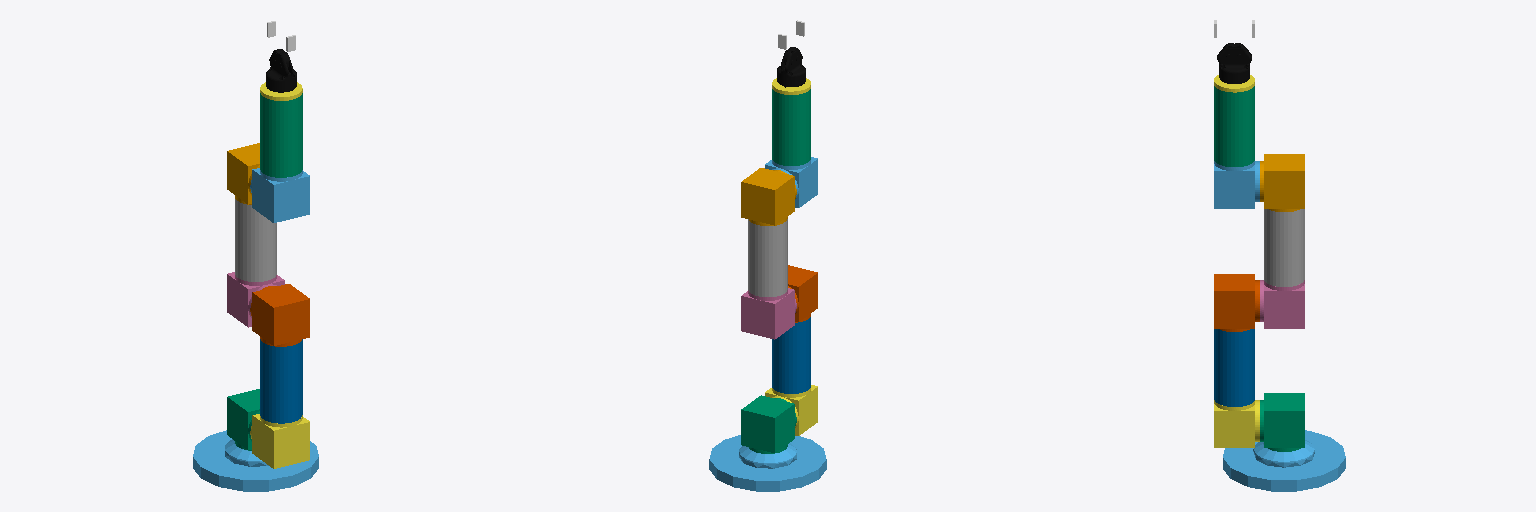
--- Facts derived from the render (not from the file) ---
Views: 3 orthographic renders of the robot side by side, from view 1: azimuth 30°, elevation 25°; view 2: azimuth 150°, elevation 25°; view 3: azimuth 270°, elevation 25°.
Model multi_geo_robot with 24 links and 23 joints (11 revolute, 12 fixed), rooted at world, posed every joint at zero.
Visible links, largest first — view 1: base_model, arm_3, arm_1, adapter_2_1, arm_2, adapter_1_2, adapter_3_2, adapter_1_1, adapter_3_1, adapter_2_2, robotiq_arg2f_base_link; view 2: base_model, arm_2, arm_3, adapter_1_1, adapter_3_1, arm_1, adapter_2_2, adapter_2_1, adapter_3_2, adapter_1_2, robotiq_arg2f_base_link; view 3: base_model, arm_3, arm_1, arm_2, adapter_2_1, adapter_1_1, adapter_3_1, adapter_3_2, adapter_1_2, adapter_2_2, robotiq_arg2f_base_link.
Boxes of the visible links, x1=… form: base_model: x1=193, y1=430, x2=318, y2=491; arm_3: x1=260, y1=93, x2=302, y2=177; arm_1: x1=260, y1=339, x2=302, y2=423; adapter_2_1: x1=250, y1=284, x2=309, y2=346; arm_2: x1=235, y1=199, x2=276, y2=281; adapter_1_2: x1=250, y1=414, x2=309, y2=468; adapter_3_2: x1=250, y1=168, x2=309, y2=222; adapter_1_1: x1=227, y1=389, x2=259, y2=450; adapter_3_1: x1=227, y1=143, x2=259, y2=204; adapter_2_2: x1=227, y1=272, x2=284, y2=327; robotiq_arg2f_base_link: x1=266, y1=49, x2=296, y2=92; base_model: x1=709, y1=435, x2=826, y2=491; arm_2: x1=748, y1=219, x2=787, y2=296; arm_3: x1=772, y1=89, x2=810, y2=165; adapter_1_1: x1=741, y1=395, x2=796, y2=453; adapter_3_1: x1=741, y1=168, x2=796, y2=225; arm_1: x1=772, y1=317, x2=810, y2=393; adapter_2_2: x1=741, y1=288, x2=796, y2=339; adapter_2_1: x1=788, y1=265, x2=817, y2=322; adapter_3_2: x1=765, y1=157, x2=817, y2=207; adapter_1_2: x1=765, y1=385, x2=817, y2=435; robotiq_arg2f_base_link: x1=777, y1=47, x2=805, y2=87; base_model: x1=1223, y1=430, x2=1345, y2=491; arm_3: x1=1214, y1=86, x2=1254, y2=166; arm_1: x1=1214, y1=329, x2=1254, y2=406; arm_2: x1=1264, y1=209, x2=1304, y2=286; adapter_2_1: x1=1214, y1=274, x2=1259, y2=331; adapter_1_1: x1=1260, y1=393, x2=1304, y2=451; adapter_3_1: x1=1260, y1=154, x2=1304, y2=211; adapter_3_2: x1=1214, y1=161, x2=1259, y2=208; adapter_1_2: x1=1214, y1=400, x2=1259, y2=447; adapter_2_2: x1=1260, y1=280, x2=1304, y2=328; robotiq_arg2f_base_link: x1=1217, y1=43, x2=1251, y2=83.
Size in the robot's own frame: 0.2967 by 0.3192 by 1.18 metres.
8 mesh visuals loaded from 7 distinct referenced files (1 binary STL, 2 Collada DAE); not drawn: 8 (reference not matched to a file when rendering).

URDF robot description (multi_geo_robot):
<?xml version="1.0" ?>
<!-- =================================================================================== -->
<!-- |    This document was autogenerated by xacro from [local-path]/Documents/dev/Multi_Geo/ros_ws/src/multi_geo_robot/multi_geo_robot_desc/models/robot_environment.xacro | -->
<!-- |    EDITING THIS FILE BY HAND IS NOT RECOMMENDED                                 | -->
<!-- =================================================================================== -->
<robot name="multi_geo_robot">
  <gazebo>
    <plugin filename="libgazebo_ros_control.so" name="gazebo_ros_control">
    </plugin>
  </gazebo>
  <link name="world"/>
  <joint name="world_joint" type="fixed">
    <origin rpy="0 0 0" xyz="0 0 0"/>
    <parent link="world"/>
    <child link="base_model"/>
  </joint>
  <!-- Base Model -->
  <link name="base_model">
    <inertial>
      <origin rpy="0 0 0" xyz="2e-06 0 0.019926"/>
      <mass value="1000"/>
      <inertia ixx="4.811547714514836" ixy="0" ixz="0" iyy="4.811547714514836" iyz="0" izz="9.623095429029672"/>
    </inertial>
    <collision>
      <geometry>
        <mesh filename="package://multi_geo_robot_desc/models/BaseModel2.dae"/>
      </geometry>
    </collision>
    <visual>
      <geometry>
        <mesh filename="package://multi_geo_robot_desc/models/BaseModel2.dae"/>
      </geometry>
    </visual>
  </link>
  <gazebo reference="base_model">
    <material>Gazebo/DarkGrey</material>
    <!-- <selfCollide>true</selfCollide> -->
  </gazebo>
  <!-- Arm Construct -->
  <!-- 2 Adapter -->
  <link name="adapter_1_1">
    <inertial>
      <origin rpy="0 0 0" xyz="0 -0.003725 0.003727"/>
      <mass value="5"/>
      <inertia ixx="0.008643042350907518" ixy="0" ixz="0" iyy="0.008643042350907518" iyz="0" izz="0.008643042350907518"/>
    </inertial>
    <collision name="adapter_1_1_collision">
      <geometry>
        <mesh filename="package://multi_geo_robot_desc/models/FirstLink.dae"/>
      </geometry>
    </collision>
    <visual>
      <geometry>
        <mesh filename="package://multi_geo_robot_desc/models/FirstLink.dae"/>
      </geometry>
    </visual>
  </link>
  <gazebo reference="adapter_1_1">
    <material>Gazebo/FlatBlack</material>
    <!-- <selfCollide>true</selfCollide> -->
  </gazebo>
  <!-- Contact Sensor -->
  <gazebo reference="adapter_1_1">
    <sensor name="adapter_1_1_contact_sensor" type="contact">
      <always_on>true</always_on>
      <contact>
        <collision>adapter_1_1_collision_collision</collision>
      </contact>
      <plugin filename="libgazebo_ros_bumper.so" name="adapter_1_1_plugin">
        <bumperTopicName>adapter_1_1_contact</bumperTopicName>
        <frameName>adapter_1_1</frameName>
      </plugin>
    </sensor>
  </gazebo>
  <link name="adapter_1_2">
    <inertial>
      <origin rpy="0 0 0" xyz="0 -0.003725 0.003727"/>
      <mass value="5"/>
      <inertia ixx="0.008643042350907518" ixy="0" ixz="0" iyy="0.008643042350907518" iyz="0" izz="0.008643042350907518"/>
    </inertial>
    <collision name="adapter_1_2_collision">
      <geometry>
        <mesh filename="package://multi_geo_robot_desc/models/FirstLink.dae"/>
      </geometry>
    </collision>
    <visual>
      <geometry>
        <mesh filename="package://multi_geo_robot_desc/models/FirstLink.dae"/>
      </geometry>
    </visual>
  </link>
  <gazebo reference="adapter_1_2">
    <material>Gazebo/FlatBlack</material>
    <!-- <selfCollide>true</selfCollide> -->
  </gazebo>
  <!-- Contact Sensor -->
  <gazebo reference="adapter_1_2">
    <sensor name="adapter_1_2_contact_sensor" type="contact">
      <always_on>true</always_on>
      <contact>
        <collision>adapter_1_2_collision_collision</collision>
      </contact>
      <plugin filename="libgazebo_ros_bumper.so" name="adapter_1_2_plugin">
        <bumperTopicName>adapter_1_2_contact</bumperTopicName>
        <frameName>adapter_1_2</frameName>
      </plugin>
    </sensor>
  </gazebo>
  <!-- 1 Arm -->
  <link name="arm_1">
    <inertial>
      <origin rpy="0 0 0" xyz="0 0 0"/>
      <mass value="9"/>
      <inertia ixx="0.035625000000000004" ixy="0" ixz="0" iyy="0.035625000000000004" iyz="0" izz="0.0018750000000000004"/>
    </inertial>
    <collision name="arm_1_collision">
      <geometry>
        <cylinder length="0.2" radius="0.05"/>
      </geometry>
    </collision>
    <visual>
      <geometry>
        <cylinder length="0.2" radius="0.05"/>
      </geometry>
    </visual>
  </link>
  <gazebo reference="arm_1">
    <material>Gazebo/DarkGrey</material>
    <!-- <selfCollide>true</selfCollide> -->
  </gazebo>
  <!-- Contact Sensor -->
  <gazebo reference="arm_1">
    <sensor name="arm_1_contact_sensor" type="contact">
      <always_on>true</always_on>
      <contact>
        <collision>arm_1_collision_collision</collision>
      </contact>
      <plugin filename="libgazebo_ros_bumper.so" name="arm_1_plugin">
        <bumperTopicName>arm_1_contact</bumperTopicName>
        <frameName>arm_1</frameName>
      </plugin>
    </sensor>
  </gazebo>
  <!-- 2 Adapter -->
  <link name="adapter_2_1">
    <inertial>
      <origin rpy="0 0 0" xyz="0 -0.003725 0.003727"/>
      <mass value="5"/>
      <inertia ixx="0.008643042350907518" ixy="0" ixz="0" iyy="0.008643042350907518" iyz="0" izz="0.008643042350907518"/>
    </inertial>
    <collision name="adapter_2_1_collision">
      <geometry>
        <mesh filename="package://multi_geo_robot_desc/models/FirstLink.dae"/>
      </geometry>
    </collision>
    <visual>
      <geometry>
        <mesh filename="package://multi_geo_robot_desc/models/FirstLink.dae"/>
      </geometry>
    </visual>
  </link>
  <gazebo reference="adapter_2_1">
    <material>Gazebo/FlatBlack</material>
    <!-- <selfCollide>true</selfCollide> -->
  </gazebo>
  <!-- Contact Sensor -->
  <gazebo reference="adapter_2_1">
    <sensor name="adapter_2_1_contact_sensor" type="contact">
      <always_on>true</always_on>
      <contact>
        <collision>adapter_2_1_collision_collision</collision>
      </contact>
      <plugin filename="libgazebo_ros_bumper.so" name="adapter_2_1_plugin">
        <bumperTopicName>adapter_2_1_contact</bumperTopicName>
        <frameName>adapter_2_1</frameName>
      </plugin>
    </sensor>
  </gazebo>
  <link name="adapter_2_2">
    <inertial>
      <origin rpy="0 0 0" xyz="0 -0.003725 0.003727"/>
      <mass value="5"/>
      <inertia ixx="0.008643042350907518" ixy="0" ixz="0" iyy="0.008643042350907518" iyz="0" izz="0.008643042350907518"/>
    </inertial>
    <collision name="adapter_2_2_collision">
      <geometry>
        <mesh filename="package://multi_geo_robot_desc/models/FirstLink.dae"/>
      </geometry>
    </collision>
    <visual>
      <geometry>
        <mesh filename="package://multi_geo_robot_desc/models/FirstLink.dae"/>
      </geometry>
    </visual>
  </link>
  <gazebo reference="adapter_2_2">
    <material>Gazebo/FlatBlack</material>
    <!-- <selfCollide>true</selfCollide> -->
  </gazebo>
  <!-- Contact Sensor -->
  <gazebo reference="adapter_2_2">
    <sensor name="adapter_2_2_contact_sensor" type="contact">
      <always_on>true</always_on>
      <contact>
        <collision>adapter_2_2_collision_collision</collision>
      </contact>
      <plugin filename="libgazebo_ros_bumper.so" name="adapter_2_2_plugin">
        <bumperTopicName>adapter_2_2_contact</bumperTopicName>
        <frameName>adapter_2_2</frameName>
      </plugin>
    </sensor>
  </gazebo>
  <!-- 1 Arm -->
  <link name="arm_2">
    <inertial>
      <origin rpy="0 0 0" xyz="0 0 0"/>
      <mass value="2"/>
      <inertia ixx="0.007916666666666667" ixy="0" ixz="0" iyy="0.007916666666666667" iyz="0" izz="0.00041666666666666675"/>
    </inertial>
    <collision name="arm_2_collision">
      <geometry>
        <cylinder length="0.2" radius="0.05"/>
      </geometry>
    </collision>
    <visual>
      <geometry>
        <cylinder length="0.2" radius="0.05"/>
      </geometry>
    </visual>
  </link>
  <gazebo reference="arm_2">
    <material>Gazebo/DarkGrey</material>
    <!-- <selfCollide>true</selfCollide> -->
  </gazebo>
  <!-- Contact Sensor -->
  <gazebo reference="arm_2">
    <sensor name="arm_2_contact_sensor" type="contact">
      <always_on>true</always_on>
      <contact>
        <collision>arm_2_collision_collision</collision>
      </contact>
      <plugin filename="libgazebo_ros_bumper.so" name="arm_2_plugin">
        <bumperTopicName>arm_2_contact</bumperTopicName>
        <frameName>arm_2</frameName>
      </plugin>
    </sensor>
  </gazebo>
  <!-- 2 Adapter -->
  <link name="adapter_3_1">
    <inertial>
      <origin rpy="0 0 0" xyz="0 -0.003725 0.003727"/>
      <mass value="5"/>
      <inertia ixx="0.008643042350907518" ixy="0" ixz="0" iyy="0.008643042350907518" iyz="0" izz="0.008643042350907518"/>
    </inertial>
    <collision name="adapter_3_1_collision">
      <geometry>
        <mesh filename="package://multi_geo_robot_desc/models/FirstLink.dae"/>
      </geometry>
    </collision>
    <visual>
      <geometry>
        <mesh filename="package://multi_geo_robot_desc/models/FirstLink.dae"/>
      </geometry>
    </visual>
  </link>
  <gazebo reference="adapter_3_1">
    <material>Gazebo/FlatBlack</material>
    <!-- <selfCollide>true</selfCollide> -->
  </gazebo>
  <!-- Contact Sensor -->
  <gazebo reference="adapter_3_1">
    <sensor name="adapter_3_1_contact_sensor" type="contact">
      <always_on>true</always_on>
      <contact>
        <collision>adapter_3_1_collision_collision</collision>
      </contact>
      <plugin filename="libgazebo_ros_bumper.so" name="adapter_3_1_plugin">
        <bumperTopicName>adapter_3_1_contact</bumperTopicName>
        <frameName>adapter_3_1</frameName>
      </plugin>
    </sensor>
  </gazebo>
  <link name="adapter_3_2">
    <inertial>
      <origin rpy="0 0 0" xyz="0 -0.003725 0.003727"/>
      <mass value="5"/>
      <inertia ixx="0.008643042350907518" ixy="0" ixz="0" iyy="0.008643042350907518" iyz="0" izz="0.008643042350907518"/>
    </inertial>
    <collision name="adapter_3_2_collision">
      <geometry>
        <mesh filename="package://multi_geo_robot_desc/models/FirstLink.dae"/>
      </geometry>
    </collision>
    <visual>
      <geometry>
        <mesh filename="package://multi_geo_robot_desc/models/FirstLink.dae"/>
      </geometry>
    </visual>
  </link>
  <gazebo reference="adapter_3_2">
    <material>Gazebo/FlatBlack</material>
    <!-- <selfCollide>true</selfCollide> -->
  </gazebo>
  <!-- Contact Sensor -->
  <gazebo reference="adapter_3_2">
    <sensor name="adapter_3_2_contact_sensor" type="contact">
      <always_on>true</always_on>
      <contact>
        <collision>adapter_3_2_collision_collision</collision>
      </contact>
      <plugin filename="libgazebo_ros_bumper.so" name="adapter_3_2_plugin">
        <bumperTopicName>adapter_3_2_contact</bumperTopicName>
        <frameName>adapter_3_2</frameName>
      </plugin>
    </sensor>
  </gazebo>
  <!-- 1 Arm -->
  <link name="arm_3">
    <inertial>
      <origin rpy="0 0 0" xyz="0 0 0"/>
      <mass value="2"/>
      <inertia ixx="0.007916666666666667" ixy="0" ixz="0" iyy="0.007916666666666667" iyz="0" izz="0.00041666666666666675"/>
    </inertial>
    <collision name="arm_3_collision">
      <geometry>
        <cylinder length="0.2" radius="0.05"/>
      </geometry>
    </collision>
    <visual>
      <geometry>
        <cylinder length="0.2" radius="0.05"/>
      </geometry>
    </visual>
  </link>
  <gazebo reference="arm_3">
    <material>Gazebo/DarkGrey</material>
    <!-- <selfCollide>true</selfCollide> -->
  </gazebo>
  <!-- Contact Sensor -->
  <gazebo reference="arm_3">
    <sensor name="arm_3_contact_sensor" type="contact">
      <always_on>true</always_on>
      <contact>
        <collision>arm_3_collision_collision</collision>
      </contact>
      <plugin filename="libgazebo_ros_bumper.so" name="arm_3_plugin">
        <bumperTopicName>arm_3_contact</bumperTopicName>
        <frameName>arm_3</frameName>
      </plugin>
    </sensor>
  </gazebo>
  <!-- Tool Tip -->
  <link name="tooltip">
    <inertial>
      <origin rpy="0 0 0" xyz="0 0 0"/>
      <mass value="10"/>
      <inertia ixx="0.006333333333333334" ixy="0" ixz="0" iyy="0.006333333333333334" iyz="0" izz="0.0020833333333333337"/>
    </inertial>
    <collision name="tooltip_collision">
      <geometry>
        <cylinder length="0.01" radius="0.05"/>
      </geometry>
    </collision>
    <visual>
      <geometry>
        <cylinder length="0.01" radius="0.05"/>
      </geometry>
    </visual>
  </link>
  <gazebo reference="tooltip">
    <material>Gazebo/DarkGrey</material>
    <!-- <selfCollide>true</selfCollide> -->
  </gazebo>
  <!-- Contact Sensor -->
  <gazebo reference="tooltip">
    <sensor name="tooltip_contact_sensor" type="contact">
      <always_on>true</always_on>
      <update_rate>30</update_rate>
      <contact>
        <collision>tooltip_collision_collision</collision>
      </contact>
      <plugin filename="libgazebo_ros_bumper.so" name="tooltip_plugin">
        <bumperTopicName>tooltip_contact</bumperTopicName>
        <frameName>tooltip</frameName>
      </plugin>
    </sensor>
  </gazebo>
  <link name="robotiq_arg2f_base_link">
    <inertial>
      <origin rpy="0 0 0" xyz="8.625E-08 -4.6583E-06 0.03145"/>
      <mass value="0.22652"/>
      <inertia ixx="0.00020005" ixy="-4.2442E-10" ixz="-2.9069E-10" iyy="0.00017832" iyz="-3.4402E-08" izz="0.00013478"/>
    </inertial>
    <visual>
      <origin rpy="0 0 0" xyz="0 0 0"/>
      <geometry>
        <mesh filename="package://robotiq_2f_85_gripper_visualization/meshes/visual/robotiq_arg2f_85_base_link.stl" scale="0.001 0.001 0.001"/>
      </geometry>
      <material name="">
        <color rgba="0.1 0.1 0.1 1"/>
      </material>
    </visual>
    <collision>
      <origin rpy="0 0 0" xyz="0 0 0"/>
      <geometry>
        <mesh filename="package://robotiq_2f_85_gripper_visualization/meshes/collision/robotiq_arg2f_base_link.stl"/>
      </geometry>
    </collision>
  </link>
  <link name="left_outer_knuckle">
    <inertial>
      <origin rpy="0 0 0" xyz="-0.000200000000003065 0.0199435877845359 0.0292245259211331"/>
      <mass value="0.00853198276973456"/>
      <inertia ixx="2.89328108496468E-06" ixy="-1.57935047237397E-19" ixz="-1.93980378593255E-19" iyy="1.86719750325683E-06" iyz="-1.21858577871576E-06" izz="1.21905238907251E-06"/>
    </inertial>
    <visual>
      <origin rpy="0 0 0" xyz="0 0 0"/>
      <geometry>
        <mesh filename="package://robotiq_2f_85_gripper_visualization/meshes/visual/robotiq_arg2f_85_outer_knuckle.dae" scale="0.001 0.001 0.001"/>
      </geometry>
      <material name="">
        <color rgba="0.792156862745098 0.819607843137255 0.933333333333333 1"/>
      </material>
    </visual>
    <collision>
      <origin rpy="0 0 0" xyz="0 0 0"/>
      <geometry>
        <mesh filename="package://robotiq_2f_85_gripper_visualization/meshes/collision/robotiq_arg2f_85_outer_knuckle.dae" scale="0.001 0.001 0.001"/>
      </geometry>
    </collision>
  </link>
  <link name="left_outer_finger">
    <inertial>
      <origin rpy="0 0 0" xyz="0.00030115855001899 0.0373907951953854 -0.0208027427000385"/>
      <mass value="0.022614240507152"/>
      <inertia ixx="1.52518312458174E-05" ixy="9.76583423954399E-10" ixz="-5.43838577022588E-10" iyy="6.17694243867776E-06" iyz="6.78636130740228E-06" izz="1.16494917907219E-05"/>
    </inertial>
    <visual>
      <origin rpy="0 0 0" xyz="0 0 0"/>
      <geometry>
        <mesh filename="package://robotiq_2f_85_gripper_visualization/meshes/visual/robotiq_arg2f_85_outer_finger.dae" scale="0.001 0.001 0.001"/>
      </geometry>
      <material name="">
        <color rgba="0.1 0.1 0.1 1"/>
      </material>
    </visual>
    <collision>
      <origin rpy="0 0 0" xyz="0 0 0"/>
      <geometry>
        <mesh filename="package://robotiq_2f_85_gripper_visualization/meshes/collision/robotiq_arg2f_85_outer_finger.dae" scale="0.001 0.001 0.001"/>
      </geometry>
    </collision>
  </link>
  <link name="left_inner_finger">
    <inertial>
      <origin rpy="0 0 0" xyz="0.000299999999999317 0.0160078233491243 -0.0136945669206257"/>
      <mass value="0.0104003125914103"/>
      <inertia ixx="2.71909453810972E-06" ixy="1.35402465472579E-21" ixz="-7.1817349065269E-22" iyy="7.69100314106116E-07" iyz="6.74715432769696E-07" izz="2.30315190420171E-06"/>
    </inertial>
    <visual>
      <origin rpy="0 0 0" xyz="0 0 0"/>
      <geometry>
        <mesh filename="package://robotiq_2f_85_gripper_visualization/meshes/visual/robotiq_arg2f_85_inner_finger.dae" scale="0.001 0.001 0.001"/>
      </geometry>
      <material name="">
        <color rgba="0.1 0.1 0.1 1"/>
      </material>
    </visual>
    <collision>
      <origin rpy="0 0 0" xyz="0 0 0"/>
      <geometry>
        <mesh filename="package://robotiq_2f_85_gripper_visualization/meshes/collision/robotiq_arg2f_85_inner_finger.dae" scale="0.001 0.001 0.001"/>
      </geometry>
    </collision>
  </link>
  <gazebo reference="left_inner_finger">
    <mu1>1e2</mu1>
    <mu2>1e2</mu2>
    <kp>1e6.0</kp>
    <kd>1e5.0</kd>
    <slip1>0</slip1>
    <slip2>0</slip2>
    <minDepth>0.0</minDepth>
    <maxVel>0.01</maxVel>
    <torsional>
      <coefficient>1e2</coefficient>
      <ode>
        <slip>0</slip>
      </ode>
    </torsional>
  </gazebo>
  <link name="left_inner_finger_pad">
    <visual>
      <origin rpy="0 0 0" xyz="0 0 0"/>
      <geometry>
        <box size="0.022 0.00635 0.0375"/>
      </geometry>
      <material name="">
        <color rgba="0.9 0.9 0.9 1"/>
      </material>
    </visual>
    <collision name="left_inner_finger_pad_collision">
      <origin rpy="0 0 0" xyz="0 0 0"/>
      <geometry>
        <box size="0.022 0.00635 0.0375"/>
      </geometry>
      <material name="">
        <color rgba="0.9 0.0 0.0 1"/>
      </material>
    </collision>
  </link>
  <gazebo reference="left_inner_finger_pad">
    <sensor name="left_inner_finger_pad_bumper" type="contact">
      <selfCollide>true</selfCollide>
      <alwaysOn>true</alwaysOn>
      <updateRate>5.0</updateRate>
      <contact>
        <collision>left_inner_finger_pad_collision_collision_1</collision>
      </contact>
      <plugin filename="libgazebo_ros_bumper.so" name="left_inner_finger_pad_bumper_controller">
        <alwaysOn>true</alwaysOn>
        <updateRate>5.0</updateRate>
        <bumperTopicName>left_inner_finger_pad_bumper</bumperTopicName>
        <frameName>world</frameName>
      </plugin>
    </sensor>
  </gazebo>
  <link name="left_inner_knuckle">
    <inertial>
      <origin rpy="0 0 0" xyz="0.000123011831763771 0.0507850843201817 0.00103968640075166"/>
      <mass value="0.0271177346495152"/>
      <inertia ixx="2.61910379223783E-05" ixy="-2.43616858946494E-07" ixz="-6.37789906117123E-09" iyy="2.8270243746167E-06" iyz="-5.37200748039765E-07" izz="2.83695868220296E-05"/>
    </inertial>
    <visual>
      <origin rpy="0 0 0" xyz="0 0 0"/>
      <geometry>
        <mesh filename="package://robotiq_2f_85_gripper_visualization/meshes/visual/robotiq_arg2f_85_inner_knuckle.dae" scale="0.001 0.001 0.001"/>
      </geometry>
      <material name="">
        <color rgba="0.1 0.1 0.1 1"/>
      </material>
    </visual>
    <collision>
      <origin rpy="0 0 0" xyz="0 0 0"/>
      <geometry>
        <mesh filename="package://robotiq_2f_85_gripper_visualization/meshes/collision/robotiq_arg2f_85_inner_knuckle.dae" scale="0.001 0.001 0.001"/>
      </geometry>
    </collision>
  </link>
  <link name="right_outer_knuckle">
    <inertial>
      <origin rpy="0 0 0" xyz="-0.000200000000003065 0.0199435877845359 0.0292245259211331"/>
      <mass value="0.00853198276973456"/>
      <inertia ixx="2.89328108496468E-06" ixy="-1.57935047237397E-19" ixz="-1.93980378593255E-19" iyy="1.86719750325683E-06" iyz="-1.21858577871576E-06" izz="1.21905238907251E-06"/>
    </inertial>
    <visual>
      <origin rpy="0 0 0" xyz="0 0 0"/>
      <geometry>
        <mesh filename="package://robotiq_2f_85_gripper_visualization/meshes/visual/robotiq_arg2f_85_outer_knuckle.dae" scale="0.001 0.001 0.001"/>
      </geometry>
      <material name="">
        <color rgba="0.792156862745098 0.819607843137255 0.933333333333333 1"/>
      </material>
    </visual>
    <collision>
      <origin rpy="0 0 0" xyz="0 0 0"/>
      <geometry>
        <mesh filename="package://robotiq_2f_85_gripper_visualization/meshes/collision/robotiq_arg2f_85_outer_knuckle.dae" scale="0.001 0.001 0.001"/>
      </geometry>
    </collision>
  </link>
  <link name="right_outer_finger">
    <inertial>
      <origin rpy="0 0 0" xyz="0.00030115855001899 0.0373907951953854 -0.0208027427000385"/>
      <mass value="0.022614240507152"/>
      <inertia ixx="1.52518312458174E-05" ixy="9.76583423954399E-10" ixz="-5.43838577022588E-10" iyy="6.17694243867776E-06" iyz="6.78636130740228E-06" izz="1.16494917907219E-05"/>
    </inertial>
    <visual>
      <origin rpy="0 0 0" xyz="0 0 0"/>
      <geometry>
        <mesh filename="package://robotiq_2f_85_gripper_visualization/meshes/visual/robotiq_arg2f_85_outer_finger.dae" scale="0.001 0.001 0.001"/>
      </geometry>
      <material name="">
        <color rgba="0.1 0.1 0.1 1"/>
      </material>
    </visual>
    <collision>
      <origin rpy="0 0 0" xyz="0 0 0"/>
      <geometry>
        <mesh filename="package://robotiq_2f_85_gripper_visualization/meshes/collision/robotiq_arg2f_85_outer_finger.dae" scale="0.001 0.001 0.001"/>
      </geometry>
    </collision>
  </link>
  <link name="right_inner_finger">
    <inertial>
      <origin rpy="0 0 0" xyz="0.000299999999999317 0.0160078233491243 -0.0136945669206257"/>
      <mass value="0.0104003125914103"/>
      <inertia ixx="2.71909453810972E-06" ixy="1.35402465472579E-21" ixz="-7.1817349065269E-22" iyy="7.69100314106116E-07" iyz="6.74715432769696E-07" izz="2.30315190420171E-06"/>
    </inertial>
    <visual>
      <origin rpy="0 0 0" xyz="0 0 0"/>
      <geometry>
        <mesh filename="package://robotiq_2f_85_gripper_visualization/meshes/visual/robotiq_arg2f_85_inner_finger.dae" scale="0.001 0.001 0.001"/>
      </geometry>
      <material name="">
        <color rgba="0.1 0.1 0.1 1"/>
      </material>
    </visual>
    <collision>
      <origin rpy="0 0 0" xyz="0 0 0"/>
      <geometry>
        <mesh filename="package://robotiq_2f_85_gripper_visualization/meshes/collision/robotiq_arg2f_85_inner_finger.dae" scale="0.001 0.001 0.001"/>
      </geometry>
    </collision>
  </link>
  <gazebo reference="right_inner_finger">
    <mu1>1e2</mu1>
    <mu2>1e2</mu2>
    <kp>1e6.0</kp>
    <kd>1e5.0</kd>
    <slip1>0</slip1>
    <slip2>0</slip2>
    <minDepth>0.0</minDepth>
    <maxVel>0.01</maxVel>
    <torsional>
      <coefficient>1e2</coefficient>
      <ode>
        <slip>0</slip>
      </ode>
    </torsional>
  </gazebo>
  <link name="right_inner_finger_pad">
    <visual>
      <origin rpy="0 0 0" xyz="0 0 0"/>
      <geometry>
        <box size="0.022 0.00635 0.0375"/>
      </geometry>
      <material name="">
        <color rgba="0.9 0.9 0.9 1"/>
      </material>
    </visual>
    <collision name="right_inner_finger_pad_collision">
      <origin rpy="0 0 0" xyz="0 0 0"/>
      <geometry>
        <box size="0.022 0.00635 0.0375"/>
      </geometry>
      <material name="">
        <color rgba="0.9 0.0 0.0 1"/>
      </material>
    </collision>
  </link>
  <gazebo reference="right_inner_finger_pad">
    <sensor name="right_inner_finger_pad_bumper" type="contact">
      <selfCollide>true</selfCollide>
      <alwaysOn>true</alwaysOn>
      <updateRate>5.0</updateRate>
      <contact>
        <collision>right_inner_finger_pad_collision_collision_1</collision>
      </contact>
      <plugin filename="libgazebo_ros_bumper.so" name="right_inner_finger_pad_bumper_controller">
        <alwaysOn>true</alwaysOn>
        <updateRate>5.0</updateRate>
        <bumperTopicName>right_inner_finger_pad_bumper</bumperTopicName>
        <frameName>world</frameName>
      </plugin>
    </sensor>
  </gazebo>
  <link name="right_inner_knuckle">
    <inertial>
      <origin rpy="0 0 0" xyz="0.000123011831763771 0.0507850843201817 0.00103968640075166"/>
      <mass value="0.0271177346495152"/>
      <inertia ixx="2.61910379223783E-05" ixy="-2.43616858946494E-07" ixz="-6.37789906117123E-09" iyy="2.8270243746167E-06" iyz="-5.37200748039765E-07" izz="2.83695868220296E-05"/>
    </inertial>
    <visual>
      <origin rpy="0 0 0" xyz="0 0 0"/>
      <geometry>
        <mesh filename="package://robotiq_2f_85_gripper_visualization/meshes/visual/robotiq_arg2f_85_inner_knuckle.dae" scale="0.001 0.001 0.001"/>
      </geometry>
      <material name="">
        <color rgba="0.1 0.1 0.1 1"/>
      </material>
    </visual>
    <collision>
      <origin rpy="0 0 0" xyz="0 0 0"/>
      <geometry>
        <mesh filename="package://robotiq_2f_85_gripper_visualization/meshes/collision/robotiq_arg2f_85_inner_knuckle.dae" scale="0.001 0.001 0.001"/>
      </geometry>
    </collision>
  </link>
  <joint name="finger_joint" type="revolute">
    <origin rpy="0 0 3.141592653589793" xyz="0 -0.0306011 0.054904"/>
    <parent link="robotiq_arg2f_base_link"/>
    <child link="left_outer_knuckle"/>
    <axis xyz="1 0 0"/>
    <limit effort="1e2" lower="0" upper="0.8" velocity="1.0"/>
  </joint>
  <joint name="left_outer_finger_joint" type="fixed">
    <origin rpy="0 0 0" xyz="0 0.0315 -0.0041"/>
    <parent link="left_outer_knuckle"/>
    <child link="left_outer_finger"/>
    <axis xyz="1 0 0"/>
  </joint>
  <joint name="left_inner_knuckle_joint" type="revolute">
    <!-- <origin xyz="0 ${reflect * -0.0127} 0.06142" rpy="${pi / 2 + .725} 0 ${(reflect - 1) * pi / 2}" /> -->
    <origin rpy="0 0 3.141592653589793" xyz="0 -0.0127 0.06142"/>
    <parent link="robotiq_arg2f_base_link"/>
    <child link="left_inner_knuckle"/>
    <axis xyz="1 0 0"/>
    <limit effort="1e2" lower="0" upper="0.8757" velocity="1.0"/>
    <mimic joint="finger_joint" multiplier="1" offset="0"/>
  </joint>
  <joint name="left_inner_finger_joint" type="revolute">
    <origin rpy="0 0 0" xyz="0 0.0061 0.0471"/>
    <parent link="left_outer_finger"/>
    <child link="left_inner_finger"/>
    <axis xyz="1 0 0"/>
    <limit effort="1e2" lower="-0.8757" upper="0" velocity="1.0"/>
    <mimic joint="finger_joint" multiplier="-1" offset="0"/>
  </joint>
  <joint name="left_inner_finger_pad_joint" type="fixed">
    <origin rpy="0 0 0" xyz="0 -0.0220203446692936 0.03242"/>
    <parent link="left_inner_finger"/>
    <child link="left_inner_finger_pad"/>
    <axis xyz="0 0 1"/>
  </joint>
  <joint name="right_outer_knuckle_joint" type="revolute">
    <origin rpy="0 0 0" xyz="0 0.0306011 0.054904"/>
    <parent link="robotiq_arg2f_base_link"/>
    <child link="right_outer_knuckle"/>
    <axis xyz="1 0 0"/>
    <limit effort="1e2" lower="0" upper="0.81" velocity="1.0"/>
    <mimic joint="finger_joint" multiplier="1" offset="0"/>
  </joint>
  <joint name="right_outer_finger_joint" type="fixed">
    <origin rpy="0 0 0" xyz="0 0.0315 -0.0041"/>
    <parent link="right_outer_knuckle"/>
    <child link="right_outer_finger"/>
    <axis xyz="1 0 0"/>
  </joint>
  <joint name="right_inner_knuckle_joint" type="revolute">
    <!-- <origin xyz="0 ${reflect * -0.0127} 0.06142" rpy="${pi / 2 + .725} 0 ${(reflect - 1) * pi / 2}" /> -->
    <origin rpy="0 0 0.0" xyz="0 0.0127 0.06142"/>
    <parent link="robotiq_arg2f_base_link"/>
    <child link="right_inner_knuckle"/>
    <axis xyz="1 0 0"/>
    <limit effort="1e2" lower="0" upper="0.8757" velocity="1.0"/>
    <mimic joint="finger_joint" multiplier="1" offset="0"/>
  </joint>
  <joint name="right_inner_finger_joint" type="revolute">
    <origin rpy="0 0 0" xyz="0 0.0061 0.0471"/>
    <parent link="right_outer_finger"/>
    <child link="right_inner_finger"/>
    <axis xyz="1 0 0"/>
    <limit effort="1e2" lower="-0.8757" upper="0" velocity="1.0"/>
    <mimic joint="finger_joint" multiplier="-1" offset="0"/>
  </joint>
  <joint name="right_inner_finger_pad_joint" type="fixed">
    <origin rpy="0 0 0" xyz="0 -0.0220203446692936 0.03242"/>
    <parent link="right_inner_finger"/>
    <child link="right_inner_finger_pad"/>
    <axis xyz="0 0 1"/>
  </joint>
  <transmission name="finger_joint_trans">
    <type>transmission_interface/SimpleTransmission</type>
    <joint name="finger_joint">
      <hardwareInterface>hardware_interface/PositionJointInterface</hardwareInterface>
    </joint>
    <actuator name="finger_joint_motor">
      <mechanicalReduction>1</mechanicalReduction>
      <hardwareInterface>hardware_interface/PositionJointInterface</hardwareInterface>
    </actuator>
  </transmission>
  <!-- loading plugin: mimic joints works in gazebo now-->
  <gazebo>
    <plugin filename="libroboticsgroup_gazebo_mimic_joint_plugin.so" name="mimic_robotiq_85_4">
      <joint>finger_joint</joint>
      <mimicJoint>right_outer_knuckle_joint</mimicJoint>
      <multiplier>1.0</multiplier>
      <maxEffort>5.0</maxEffort>
    </plugin>
    <plugin filename="libroboticsgroup_gazebo_mimic_joint_plugin.so" name="mimic_robotiq_85_2">
      <joint>finger_joint</joint>
      <mimicJoint>left_inner_finger_joint</mimicJoint>
      <multiplier>-1.0</multiplier>
      <maxEffort>5.0</maxEffort>
    </plugin>
    <plugin filename="libroboticsgroup_gazebo_mimic_joint_plugin.so" name="mimic_robotiq_85_1">
      <joint>finger_joint</joint>
      <mimicJoint>right_inner_finger_joint</mimicJoint>
      <multiplier>-1.0</multiplier>
      <maxEffort>5.0</maxEffort>
    </plugin>
    <plugin filename="libroboticsgroup_gazebo_mimic_joint_plugin.so" name="mimic_robotiq_85_3">
      <joint>finger_joint</joint>
      <mimicJoint>left_inner_knuckle_joint</mimicJoint>
      <multiplier>1.0</multiplier>
      <maxEffort>5.0</maxEffort>
    </plugin>
    <plugin filename="libroboticsgroup_gazebo_mimic_joint_plugin.so" name="mimic_robotiq_85_5">
      <joint>finger_joint</joint>
      <mimicJoint>right_inner_knuckle_joint</mimicJoint>
      <multiplier>1.0</multiplier>
      <maxEffort>5.0</maxEffort>
    </plugin>
  </gazebo>
  <joint name="gripper_joint" type="fixed">
    <parent link="tooltip"/>
    <child link="robotiq_arg2f_base_link"/>
    <origin rpy="0.0 0.0 0.0" xyz="0.0 0.0 0.01"/>
  </joint>
  <!-- EEF Dummy -->
  <link name="eef_dummy"/>
  <joint name="eef_dummy_joint" type="fixed">
    <origin rpy="0 -1.5707963267948966 0" xyz="0 0 0.14"/>
    <parent link="robotiq_arg2f_base_link"/>
    <child link="eef_dummy"/>
  </joint>
  <!-- Joint -->
  <joint name="base_model_adapter_1_1" type="revolute">
    <parent link="base_model"/>
    <child link="adapter_1_1"/>
    <origin rpy="0 3.141592653589793 0" xyz="0 0 0.12"/>
    <axis xyz="0 0 1"/>
    <limit effort="1000.0" lower="-3.141592653589793" upper="3.141592653589793" velocity="13.2"/>
  </joint>
  <transmission name="base_model_adapter_1_1_trans">
    <type>transmission_interface/SimpleTransmission</type>
    <joint name="base_model_adapter_1_1">
      <hardwareInterface>hardware_interface/PositionJointInterface</hardwareInterface>
    </joint>
    <actuator name="base_model_adapter_1_1_motor">
      <mechanicalReduction>1</mechanicalReduction>
    </actuator>
  </transmission>
  <joint name="adapter_1_1_adapter_1_2" type="revolute">
    <parent link="adapter_1_1"/>
    <child link="adapter_1_2"/>
    <origin rpy="3.141592653589793 0 0" xyz="0 -0.12 0"/>
    <axis xyz="0 1 0"/>
    <limit effort="1000.0" lower="-3.141592653589793" upper="3.141592653589793" velocity="13.2"/>
  </joint>
  <transmission name="adapter_1_1_adapter_1_2_trans">
    <type>transmission_interface/SimpleTransmission</type>
    <joint name="adapter_1_1_adapter_1_2">
      <hardwareInterface>hardware_interface/PositionJointInterface</hardwareInterface>
    </joint>
    <actuator name="adapter_1_1_adapter_1_2_motor">
      <mechanicalReduction>1</mechanicalReduction>
    </actuator>
  </transmission>
  <joint name="adapter_1_2_arm_1" type="fixed">
    <parent link="adapter_1_2"/>
    <child link="arm_1"/>
    <origin rpy="0 0 0" xyz="0 0 0.16"/>
  </joint>
  <joint name="arm_1_adapter_2_1" type="fixed">
    <parent link="arm_1"/>
    <child link="adapter_2_1"/>
    <origin rpy="1.5707963267948966 0 0" xyz="0 0 0.16"/>
  </joint>
  <joint name="adapter_2_1_adapter_2_2" type="revolute">
    <parent link="adapter_2_1"/>
    <child link="adapter_2_2"/>
    <origin rpy="3.141592653589793 0 0" xyz="0 0 0.12"/>
    <axis xyz="0 0 1"/>
    <limit effort="1000.0" lower="-3.141592653589793" upper="3.141592653589793" velocity="13.2"/>
  </joint>
  <transmission name="adapter_2_1_adapter_2_2_trans">
    <type>transmission_interface/SimpleTransmission</type>
    <joint name="adapter_2_1_adapter_2_2">
      <hardwareInterface>hardware_interface/PositionJointInterface</hardwareInterface>
    </joint>
    <actuator name="adapter_2_1_adapter_2_2_motor">
      <mechanicalReduction>1</mechanicalReduction>
    </actuator>
  </transmission>
  <joint name="adapter_2_2_arm_2" type="fixed">
    <parent link="adapter_2_2"/>
    <child link="arm_2"/>
    <origin rpy="1.5707963267948966 0 0" xyz="0 -0.16 0"/>
  </joint>
  <joint name="arm_2_adapter_3_1" type="fixed">
    <parent link="arm_2"/>
    <child link="adapter_3_1"/>
    <origin rpy="3.141592653589793 0 0" xyz="0 0 0.16"/>
  </joint>
  <joint name="adapter_3_1_adapter_3_2" type="revolute">
    <parent link="adapter_3_1"/>
    <child link="adapter_3_2"/>
    <origin rpy="3.141592653589793 0 0" xyz="0 -0.12 0"/>
    <axis xyz="0 1 0"/>
    <limit effort="1000.0" lower="-3.141592653589793" upper="3.141592653589793" velocity="13.2"/>
  </joint>
  <transmission name="adapter_3_1_adapter_3_2_trans">
    <type>transmission_interface/SimpleTransmission</type>
    <joint name="adapter_3_1_adapter_3_2">
      <hardwareInterface>hardware_interface/PositionJointInterface</hardwareInterface>
    </joint>
    <actuator name="adapter_3_1_adapter_3_2_motor">
      <mechanicalReduction>1</mechanicalReduction>
    </actuator>
  </transmission>
  <joint name="adapter_3_2_arm_3" type="fixed">
    <parent link="adapter_3_2"/>
    <child link="arm_3"/>
    <origin rpy="0 0 0" xyz="0 0 0.16"/>
  </joint>
  <joint name="arm_3_tooltip" type="revolute">
    <parent link="arm_3"/>
    <child link="tooltip"/>
    <origin rpy="0 0 0" xyz="0 0 0.10500000000000001"/>
    <axis xyz="0 0 1"/>
    <limit effort="1000.0" lower="-3.141592653589793" upper="3.141592653589793" velocity="13.2"/>
  </joint>
  <transmission name="arm_3_tooltip_trans">
    <type>transmission_interface/SimpleTransmission</type>
    <joint name="arm_3_tooltip">
      <hardwareInterface>hardware_interface/PositionJointInterface</hardwareInterface>
    </joint>
    <actuator name="arm_3_tooltip_motor">
      <mechanicalReduction>1</mechanicalReduction>
    </actuator>
  </transmission>
</robot>
